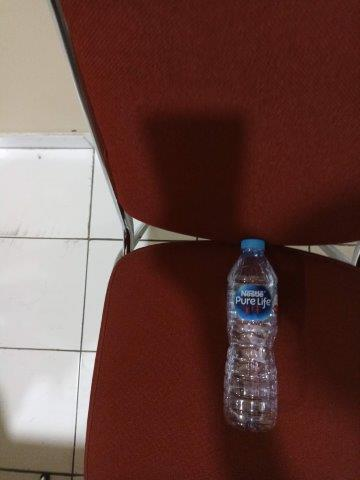botolplastik: (224, 237, 277, 434)
